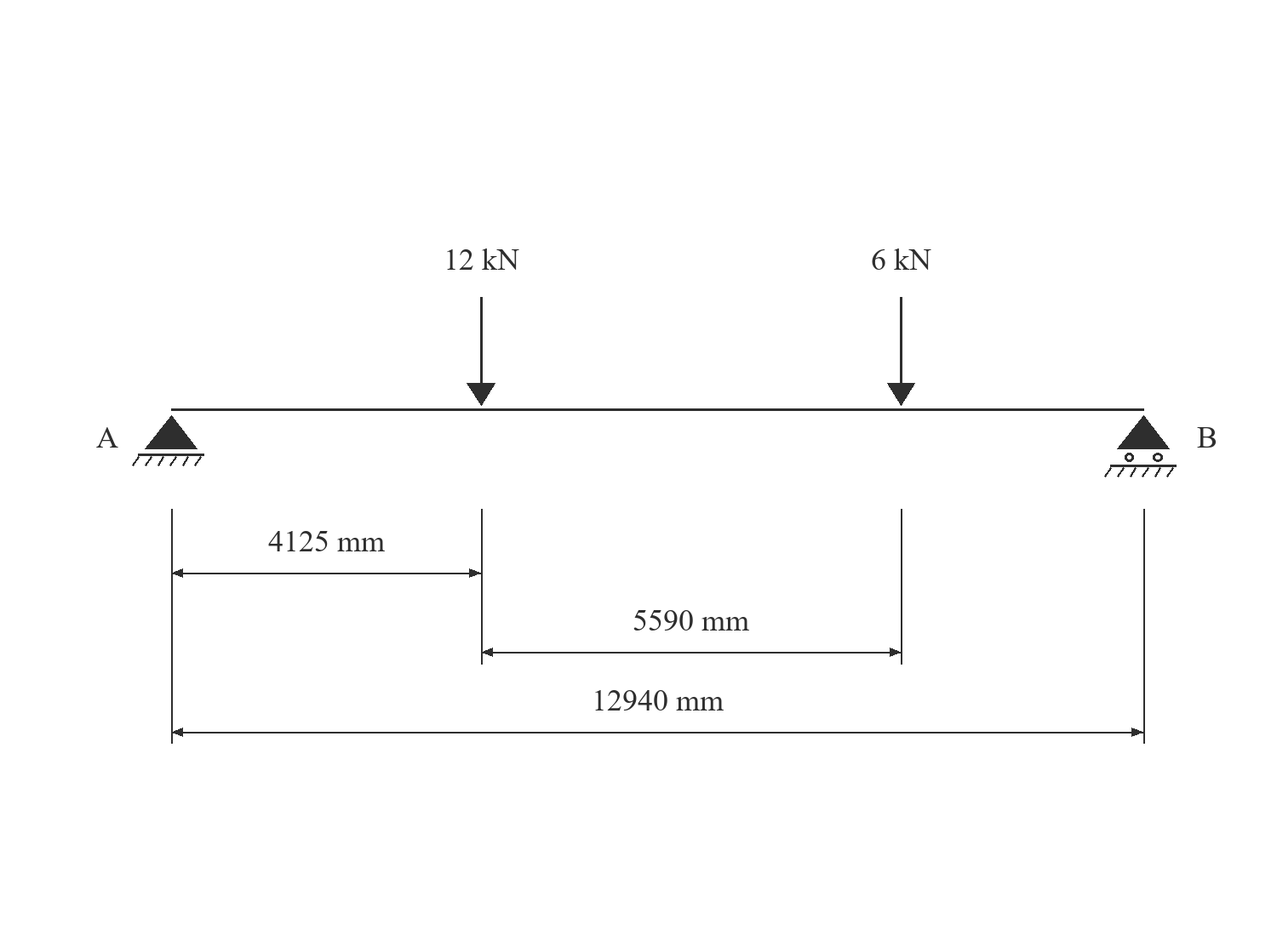pin_support: (132, 415, 204, 466)
point_load: (467, 297, 495, 406), (887, 297, 915, 406)
roller_support: (1104, 415, 1177, 477)
